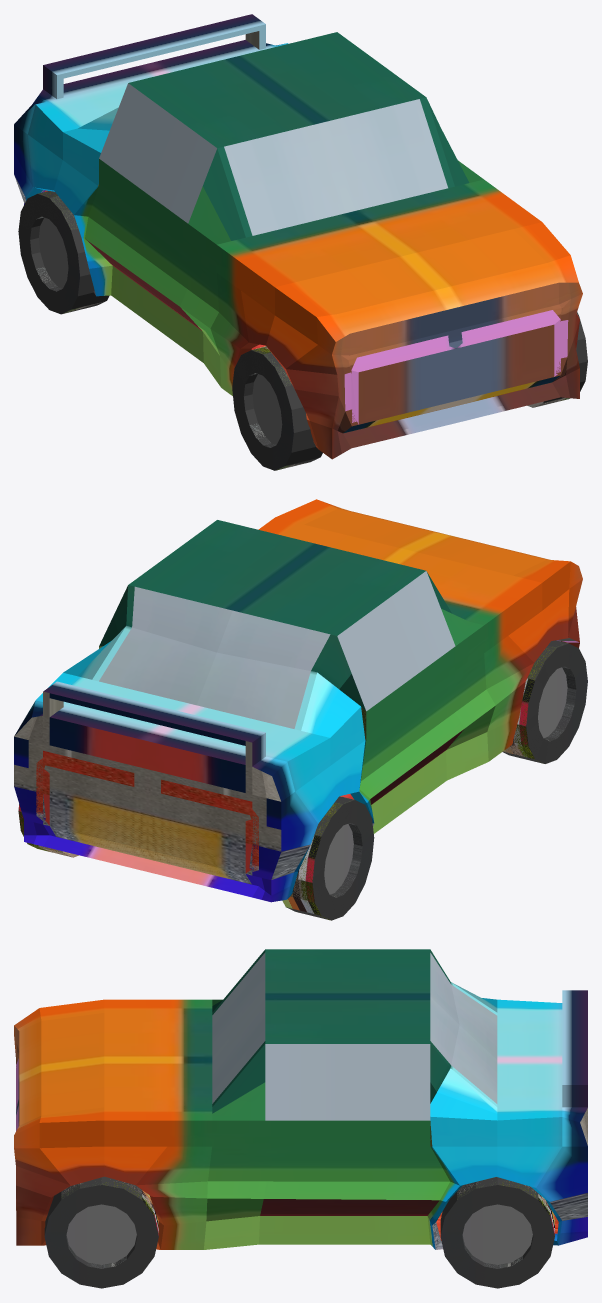
The model's file is Car.fbx.
3 views of the same model, one above another, from view 1: azimuth 30°, elevation 25°; view 2: azimuth 150°, elevation 25°; view 3: azimuth 270°, elevation 25° (orthographic). The views are drawn at different scales.
Parts seen in each view (by area): view 1: UGV_Frame, Wheel1, Wheel2; view 2: UGV_Frame, Wheel2, Wheel1; view 3: UGV_Frame, Wheel1, Wheel2.
Boxes of the visible parts, <box> form: UGV_Frame: <box>14,14,582,459</box>; Wheel1: <box>232,312,587,470</box>; Wheel2: <box>18,191,109,314</box>; UGV_Frame: <box>14,499,582,902</box>; Wheel2: <box>18,796,374,920</box>; Wheel1: <box>502,640,587,763</box>; UGV_Frame: <box>14,949,587,1249</box>; Wheel1: <box>44,1176,158,1288</box>; Wheel2: <box>440,1177,554,1288</box>.
Bounding box in the file's own units: 110 × 86.95 × 201.
